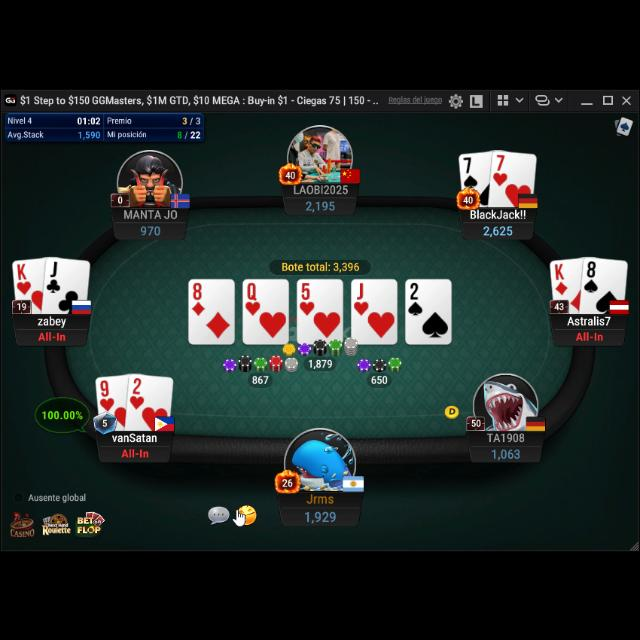2h: (128, 376, 146, 410)
2s: (407, 280, 423, 314)
5h: (299, 280, 315, 314)
7h: (492, 150, 508, 186)
7s: (462, 153, 478, 187)
8d: (190, 281, 208, 317)
8s: (582, 256, 600, 292)
9h: (98, 377, 115, 411)
Jc: (44, 258, 61, 292)
Jh: (353, 280, 369, 314)
Kd: (554, 260, 570, 294)
Kh: (16, 260, 32, 294)
Qh: (244, 280, 262, 316)
Tc: (44, 258, 61, 292)
all_in_symbol: (574, 328, 606, 342), (120, 446, 150, 459), (36, 330, 66, 342)
bet_text: (307, 357, 335, 369), (251, 374, 271, 384), (370, 374, 388, 384)
dealer: (442, 402, 460, 420)
pot_text: (281, 258, 361, 270)
stack_text: (302, 508, 338, 524), (483, 224, 515, 238), (490, 446, 522, 460), (305, 198, 337, 212), (139, 222, 161, 235)
